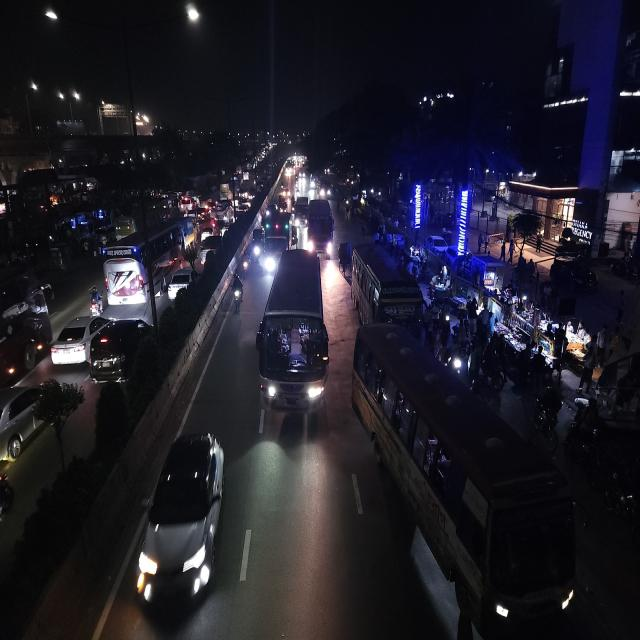bus: (354, 324, 577, 638), (257, 246, 331, 423), (100, 222, 184, 310), (350, 242, 428, 333), (0, 270, 55, 384), (306, 197, 336, 257), (214, 200, 234, 223), (318, 182, 332, 199)
car: (134, 424, 228, 618), (89, 315, 157, 388), (50, 314, 114, 369), (168, 268, 198, 300), (199, 234, 225, 261), (427, 232, 449, 255), (237, 197, 251, 212)
cng: (252, 224, 264, 257)
motorcycle: (229, 270, 245, 314), (86, 286, 104, 316), (240, 250, 252, 276), (290, 225, 298, 250)
truck: (260, 212, 290, 274)
